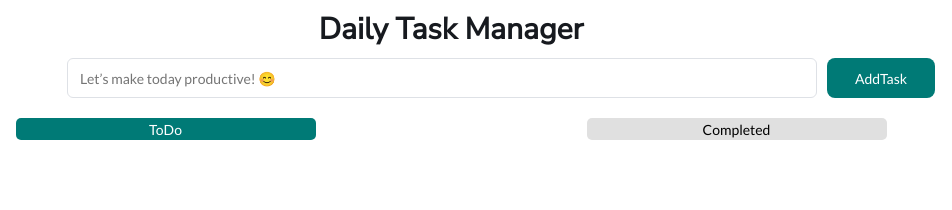
Test case: adds a new task
This screenshot has width=952, height=210.
Type "Learn React" into the field with placeholder "Let’s make today productive! 😊" at (442, 78), box [67, 58, 817, 98]
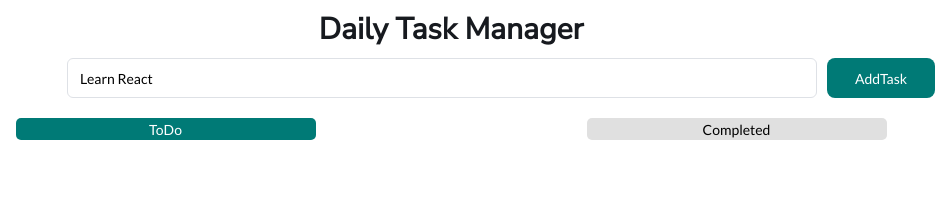
Click the button "AddTask" at (881, 78), box [827, 58, 935, 98]
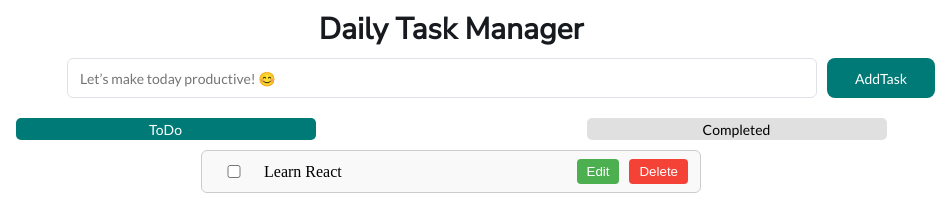
Now the text "Learn React" is shown, box [264, 162, 342, 180]
